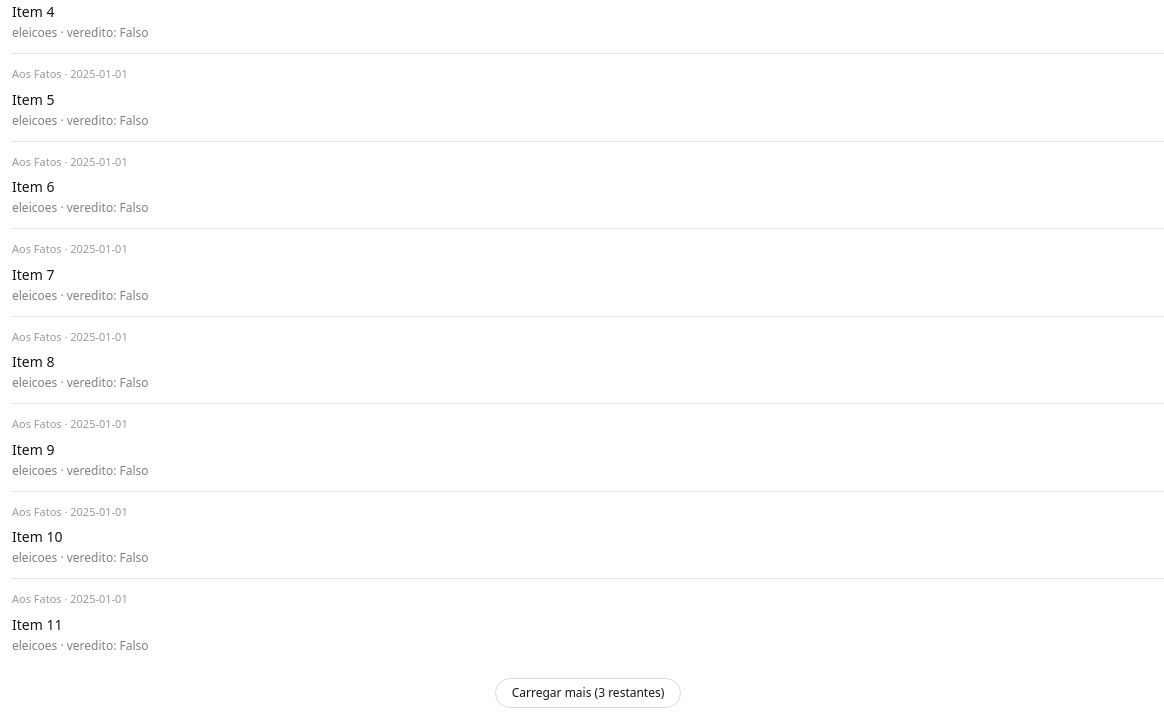
Test: ChecagensFeed › pagina os itens, mostrando 'carregar mais' quando há mais de 12
(page scrolled)
Expected: the text "Item 12" is not shown
Click the button "Carregar mais (3 restantes)".
click(588, 692)  # box [495, 678, 681, 708]
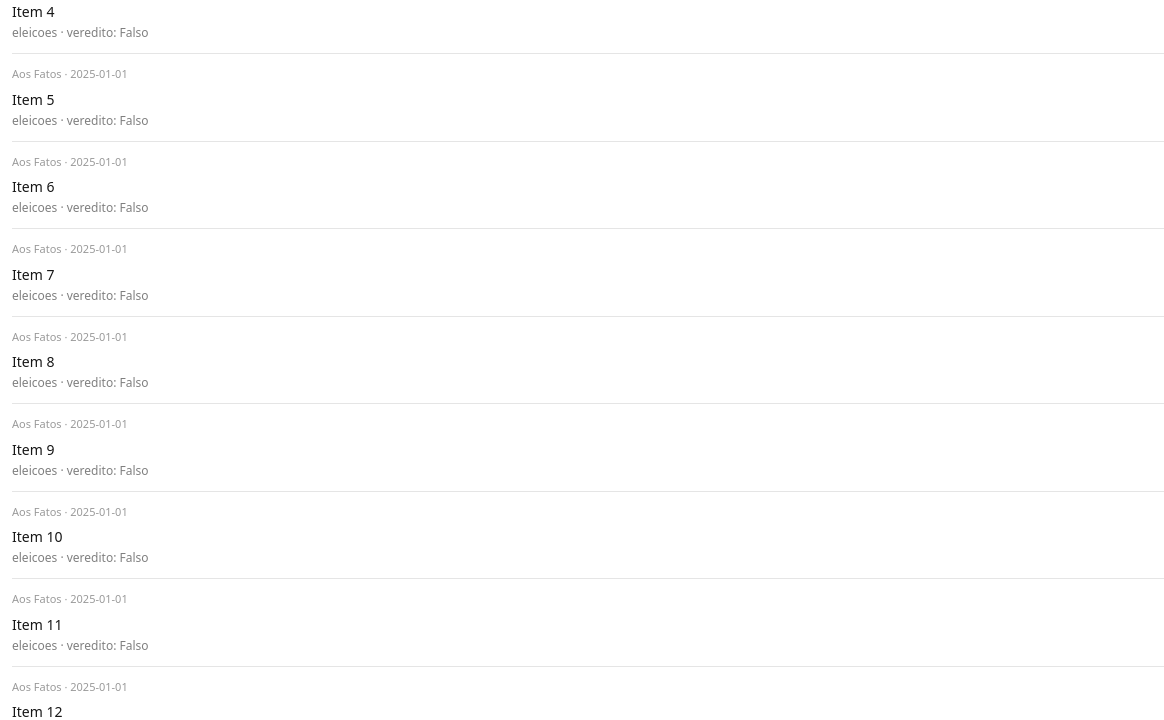
Expected: the link "Item 12" is shown, [12, 702, 62, 719]
